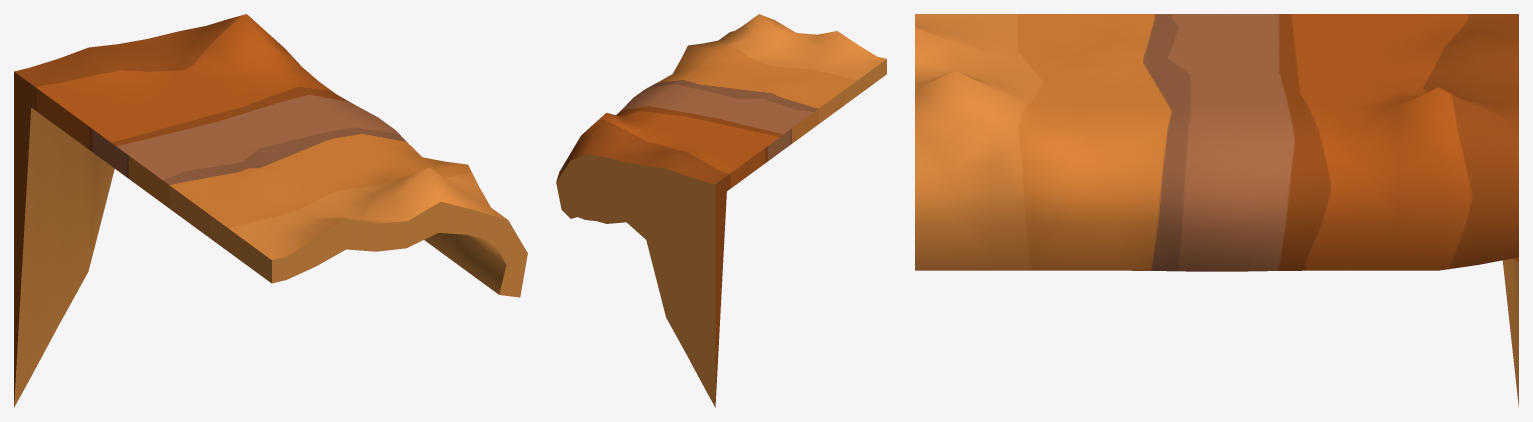
The model's file is tileableHardLedgeEnd.fbx.
3 renders of one model, left to right at view 1: azimuth 30°, elevation 25°; view 2: azimuth 150°, elevation 25°; view 3: azimuth 270°, elevation 25°, orthographic. The views are drawn at different scales.
Parts seen in each view (by area): view 1: tileableHardLedgeEnd; view 2: tileableHardLedgeEnd; view 3: tileableHardLedgeEnd.
Part boxes in pixels (box(x1,y1,x2,y2)): tileableHardLedgeEnd: box(14, 14, 527, 407); tileableHardLedgeEnd: box(556, 14, 886, 407); tileableHardLedgeEnd: box(915, 14, 1518, 407).
Bounding box in the file's own units: 0.1184 × 0.16 × 0.2.
